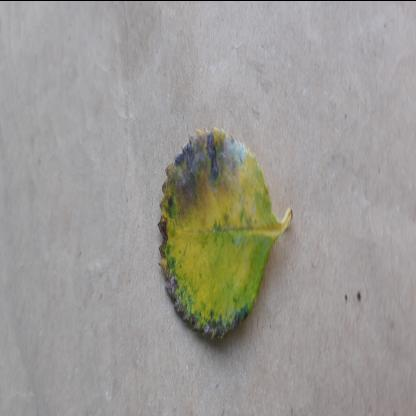black-spot: (156, 107, 276, 347)
